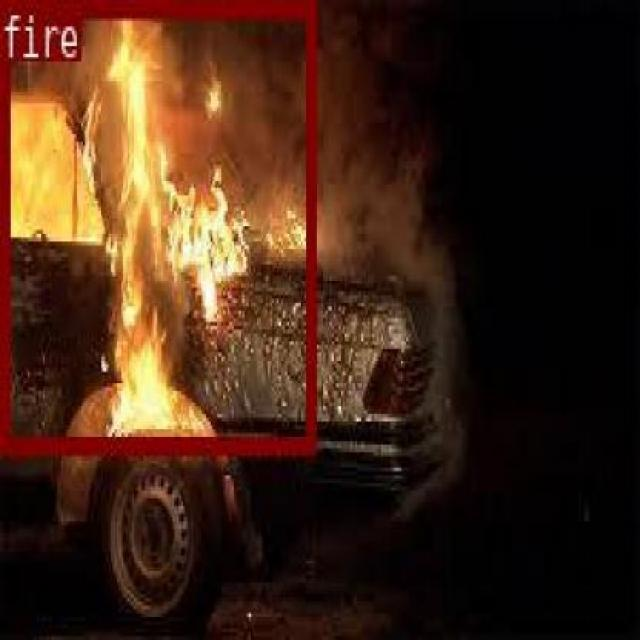Fire: (158, 226, 315, 452)
